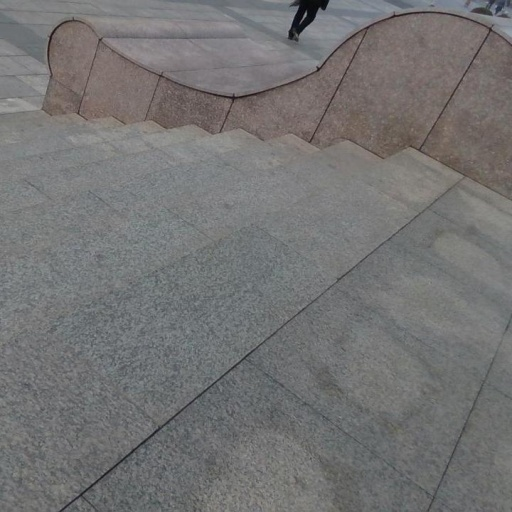Stairs: (0, 112, 512, 512)
